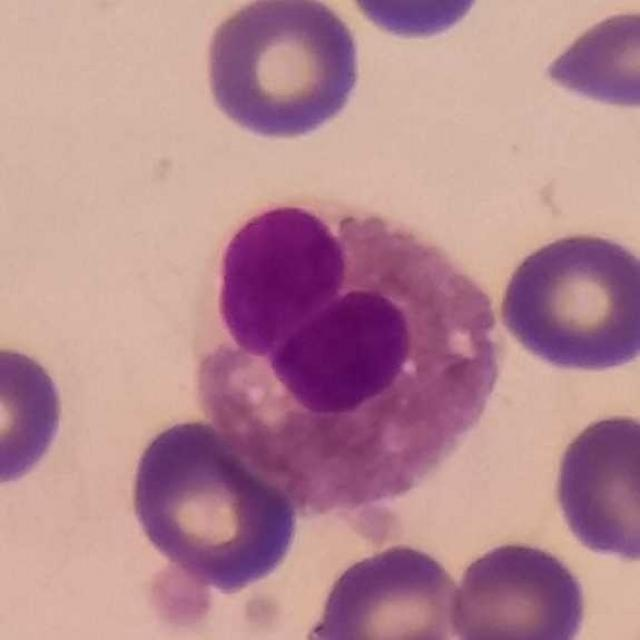Eosinophil: (184, 194, 508, 517)
Platelets: (145, 557, 218, 628), (339, 496, 400, 549), (240, 584, 286, 635)
RBC: (121, 412, 304, 593), (198, 0, 367, 145), (493, 224, 639, 377), (299, 538, 468, 640), (443, 534, 592, 640), (547, 409, 640, 565), (536, 2, 640, 115), (0, 338, 70, 493), (331, 0, 494, 46)
